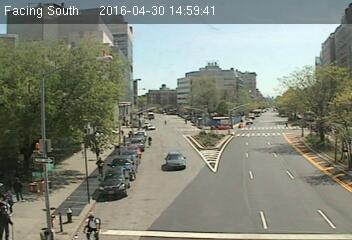neg: (83, 212, 103, 239), (120, 161, 135, 181), (228, 166, 242, 184), (42, 110, 55, 129), (299, 34, 313, 51), (85, 17, 97, 32), (319, 165, 330, 180), (21, 48, 32, 63), (263, 137, 274, 151), (145, 134, 155, 149), (206, 170, 216, 184), (284, 157, 294, 171), (125, 17, 134, 29), (213, 135, 222, 147), (51, 58, 59, 70), (246, 152, 254, 162), (146, 68, 154, 78), (207, 154, 214, 164), (48, 22, 55, 32), (230, 19, 237, 29), (212, 39, 219, 49), (329, 107, 336, 117), (209, 200, 216, 210), (243, 208, 250, 218), (111, 60, 118, 69), (191, 14, 198, 23), (287, 205, 293, 214), (170, 159, 176, 167), (191, 75, 197, 83), (259, 41, 265, 49), (310, 71, 316, 79), (273, 82, 279, 90), (181, 190, 187, 198), (214, 78, 219, 85), (161, 12, 166, 19), (301, 96, 306, 103), (245, 112, 250, 118), (265, 184, 270, 190)
pos: (8, 173, 29, 201), (89, 139, 103, 159), (94, 157, 107, 174), (162, 118, 169, 127), (283, 121, 289, 129), (183, 117, 189, 124)
